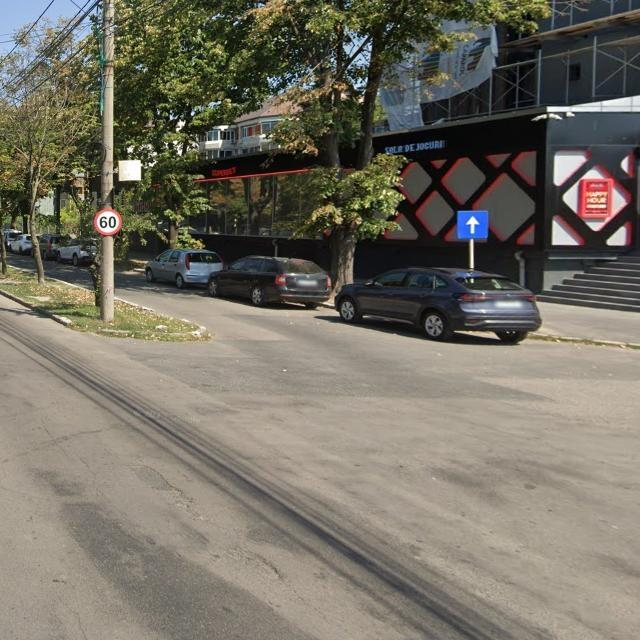forb_speed_over_60: (93, 209, 122, 236)
